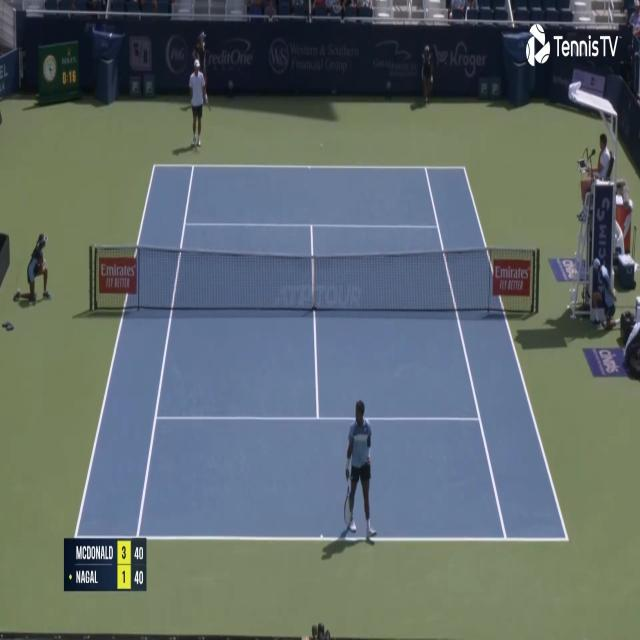tennis-player: (342, 397, 377, 546), (187, 57, 210, 149)
